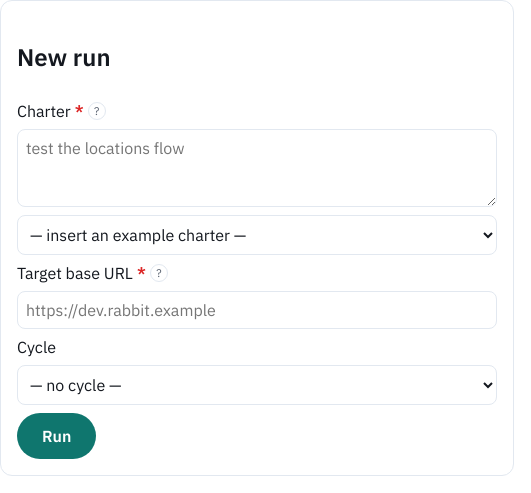
Test: NewRunForm (frontend-spec §5) › picking an example charter fills the textarea (onboarding-friction fix)
Select "Add a new item to the cart, proceed to checkout, and confirm the order summary s" in the dropdown named "Insert an example charter" at (257, 235), box [17, 215, 497, 255]
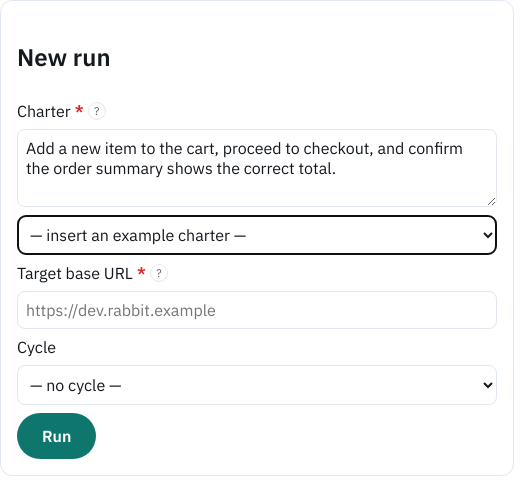
Expected: the text box labelled "Charter" holds "Add a new item to the cart, proceed to checkout, and confirm the order summary shows the correct total.", [17, 129, 497, 207]
